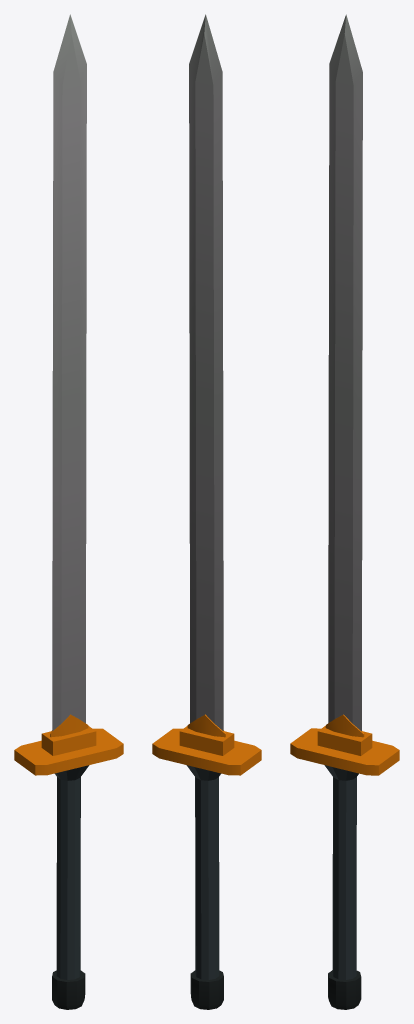
Rendered from Sword_3.fbx.
The picture shows the model from 3 angles, left to right: view 1: azimuth 30°, elevation 25°; view 2: azimuth 150°, elevation 25°; view 3: azimuth 330°, elevation 25°; orthographic projection.
Parts seen in each view (by area): view 1: Sword_3; view 2: Sword_3; view 3: Sword_3.
Boxes of the visible parts, x1,y1,x2,y2 form: Sword_3: [14, 14, 123, 1009]; Sword_3: [152, 14, 261, 1009]; Sword_3: [290, 14, 399, 1009].
Bounding box in the file's own units: 9.34 × 100 × 4.81.
